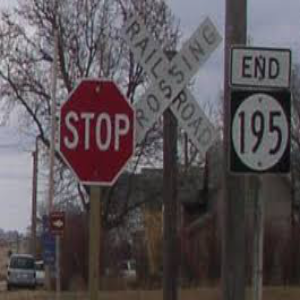STOP_SIGN: (58, 79, 134, 183)
